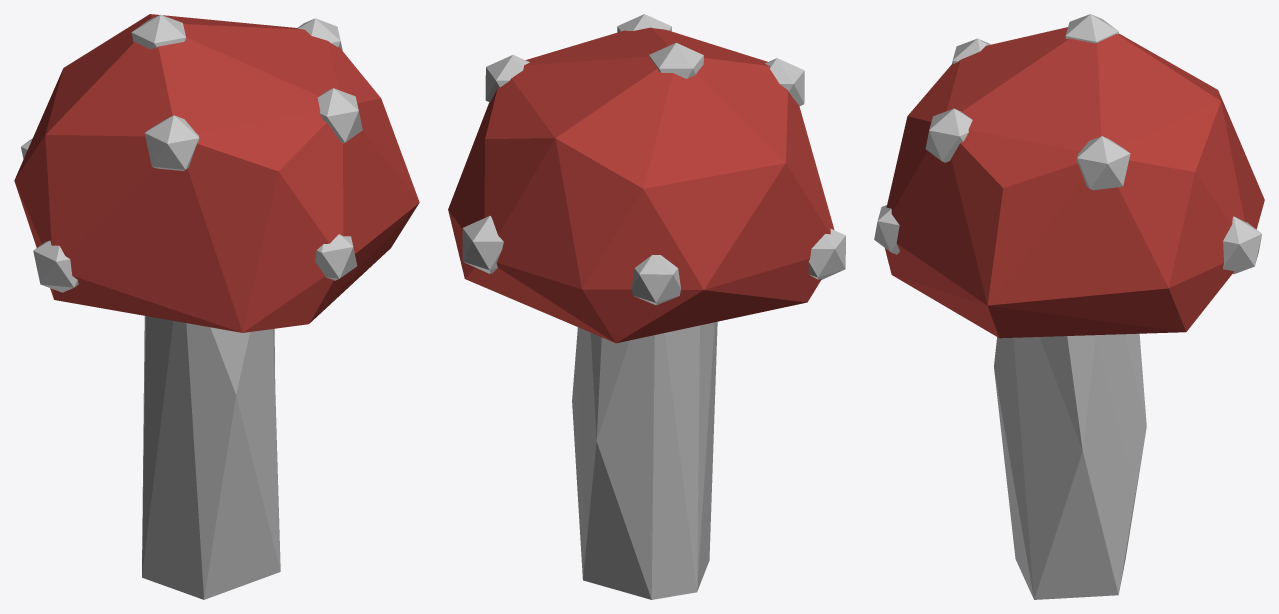
The model's file is Mushroom_01.fbx.
3 renders of one model, left to right at view 1: azimuth 30°, elevation 25°; view 2: azimuth 150°, elevation 25°; view 3: azimuth 270°, elevation 25°, orthographic. The views are drawn at different scales.
Parts seen in each view (by area): view 1: Mushroom_01; view 2: Mushroom_01; view 3: Mushroom_01.
Boxes of the visible parts, bbox=[...] form: Mushroom_01: bbox=[14, 14, 419, 599]; Mushroom_01: bbox=[448, 14, 845, 599]; Mushroom_01: bbox=[874, 14, 1264, 599].
Bounding box in the file's own units: 22.52 × 22.22 × 34.07.
